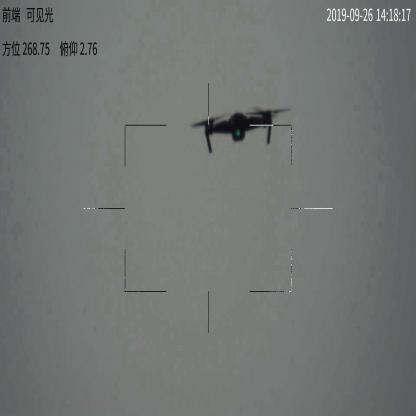uav: (192, 101, 289, 155)
